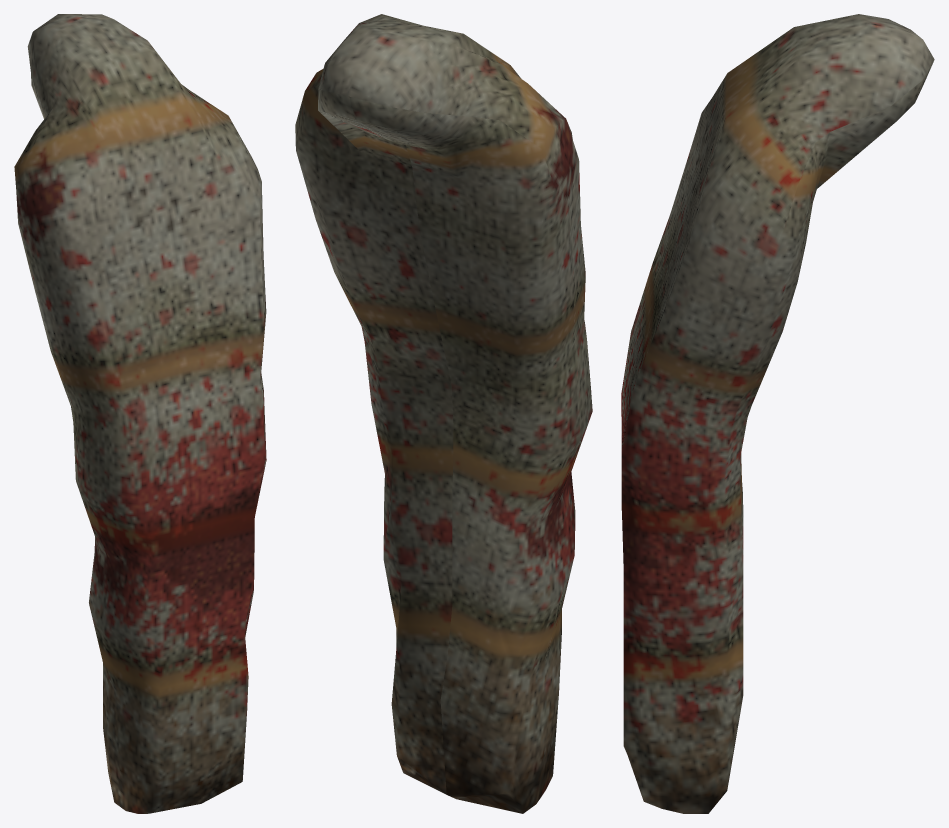
The model's file is BodyBagPose1.fbx.
3 views of the same model, side by side, from view 1: azimuth 30°, elevation 25°; view 2: azimuth 150°, elevation 25°; view 3: azimuth 270°, elevation 25° (orthographic). The views are drawn at different scales.
Visible parts, largest first — view 1: BodyBag; view 2: BodyBag; view 3: BodyBag.
Part boxes in pixels (left/top/right/bottom): BodyBag: left=14, top=14, right=266, bottom=813; BodyBag: left=295, top=14, right=592, bottom=813; BodyBag: left=621, top=14, right=934, bottom=813.
Bounding box in the file's own units: 135 × 412 × 152.
